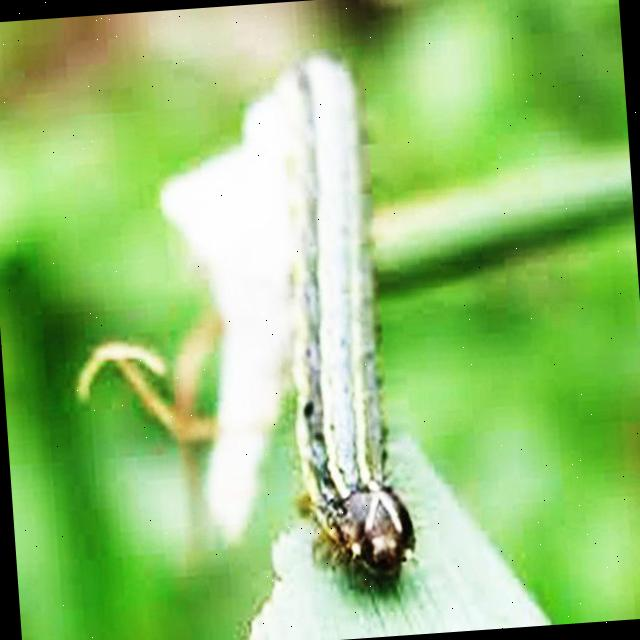worm: (265, 46, 421, 590)
